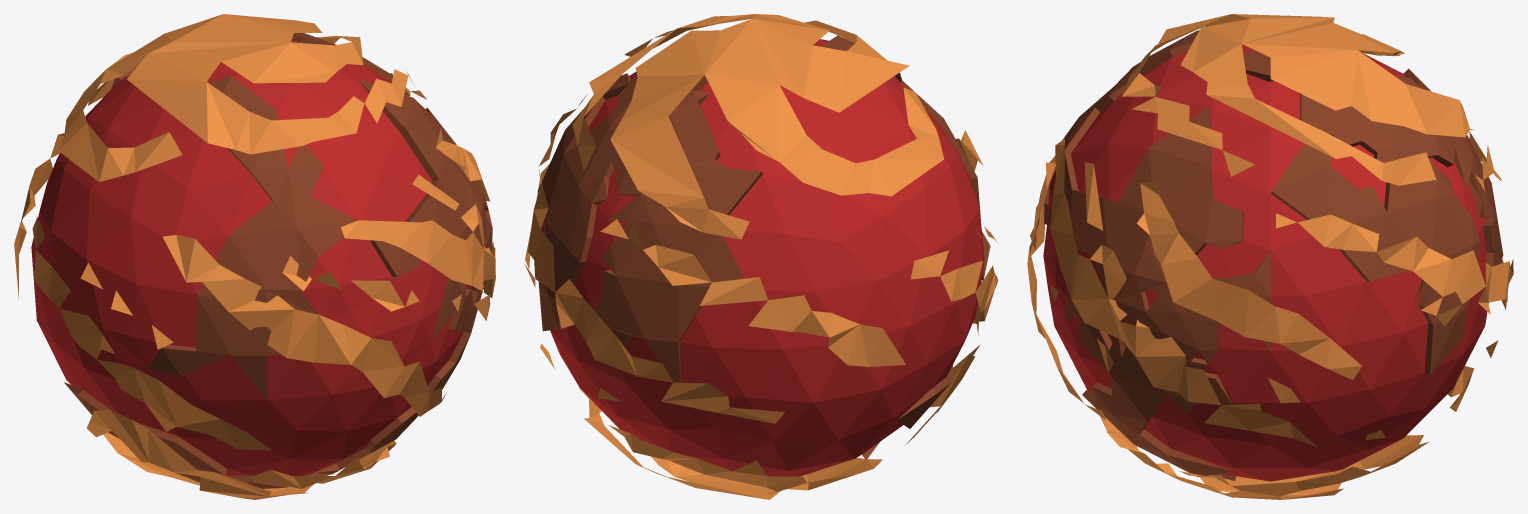
File: planet14.glb
The picture shows the model from 3 angles, left to right: view 1: azimuth 30°, elevation 25°; view 2: azimuth 150°, elevation 25°; view 3: azimuth 270°, elevation 25°; orthographic projection.
Parts seen in each view (by area): view 1: planet14; view 2: planet14; view 3: planet14.
Boxes of the visible parts, x1,y1,x2,y2 form: planet14: (14, 14, 495, 499); planet14: (524, 14, 998, 499); planet14: (1027, 14, 1513, 499).
Size of the model in its own units: 2.79 by 2.8 by 2.8.
Materials: 1 (1 with a texture image).
